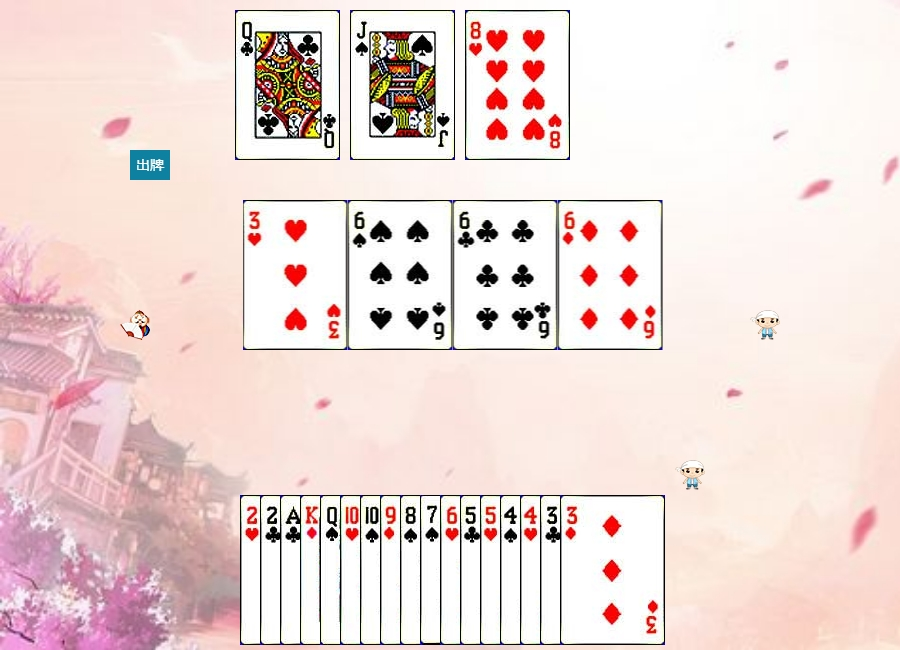10~3: (340, 495, 445, 645)
10~4: (360, 495, 465, 645)
11~4: (350, 10, 455, 160)
12~2: (235, 10, 340, 160)
12~4: (320, 495, 425, 645)
13~1: (300, 495, 405, 645)
14~2: (280, 495, 385, 645)
15~2: (260, 495, 365, 645)
15~3: (240, 495, 345, 645)
3~1: (560, 495, 665, 645)
3~2: (540, 495, 645, 645)
3~3: (243, 200, 348, 350)
4~3: (520, 495, 625, 645)
4~4: (500, 495, 605, 645)
5~2: (460, 495, 565, 645)
5~3: (480, 495, 585, 645)
6~1: (558, 200, 663, 350)
6~2: (453, 200, 558, 350)
6~3: (440, 495, 545, 645)
6~4: (348, 200, 453, 350)
7~4: (420, 495, 525, 645)
8~3: (465, 10, 570, 160)
8~4: (400, 495, 505, 645)
9~1: (380, 495, 485, 645)
